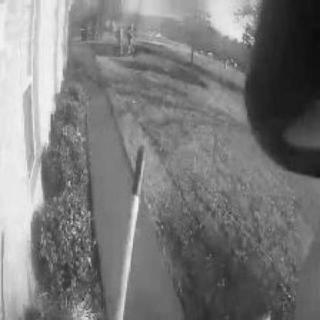other: (42, 172, 94, 272)
